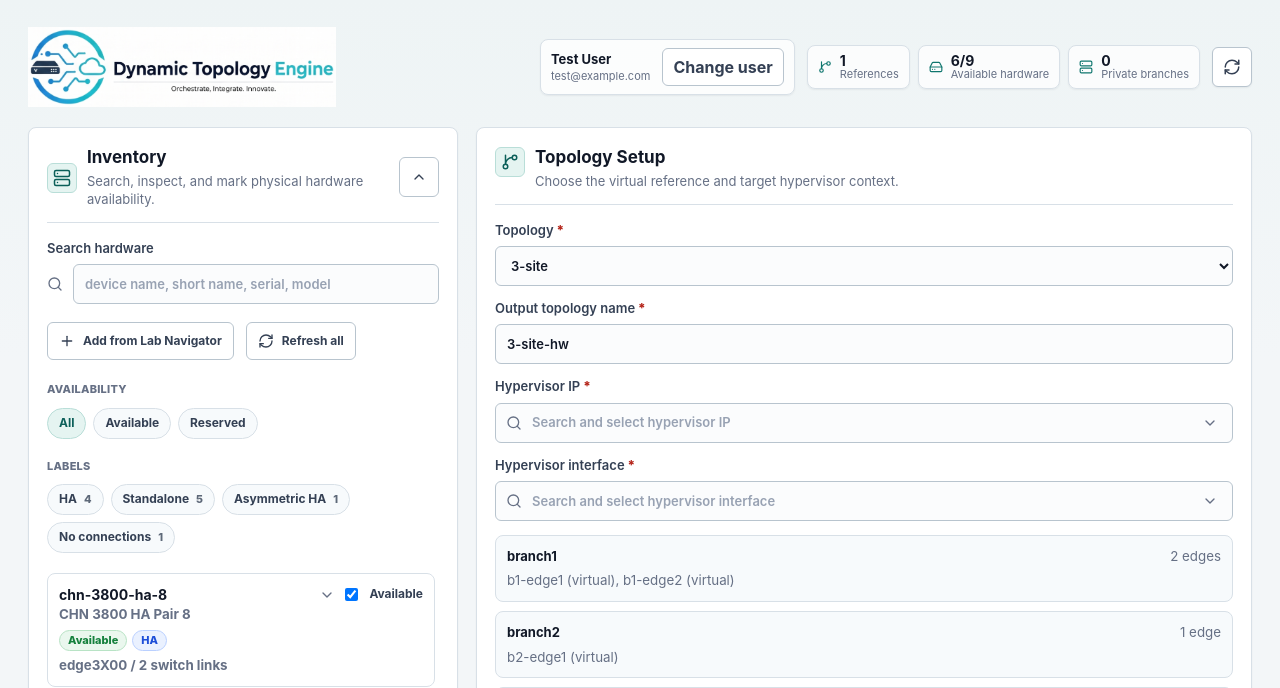
Scenario: App › searches inventory by short name and expands details
The image size is (1280, 688).
Type "chn-3800-ha-8" into the field labelled "Search hardware".
click(256, 284); type("chn-3800-ha-8")  # box [73,264,439,304]
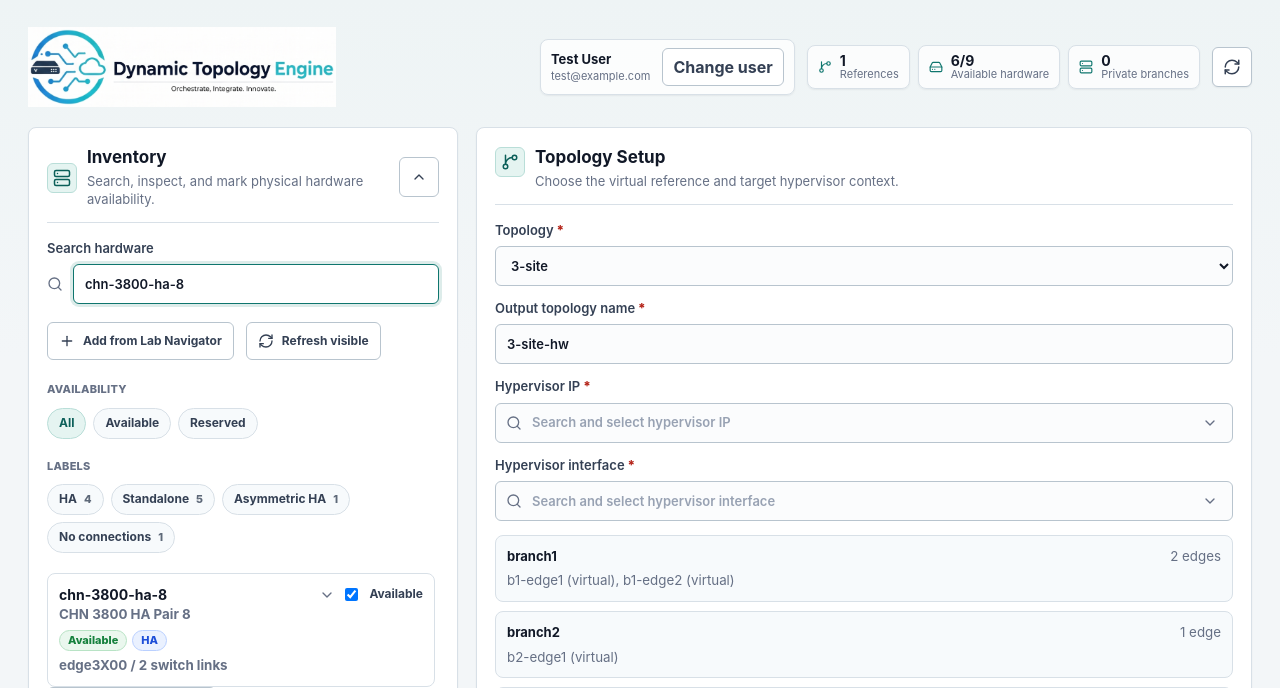
Click the button "chn-3800-ha-8".
click(113, 595)  # box [59,585,335,675]
(page scrolled)
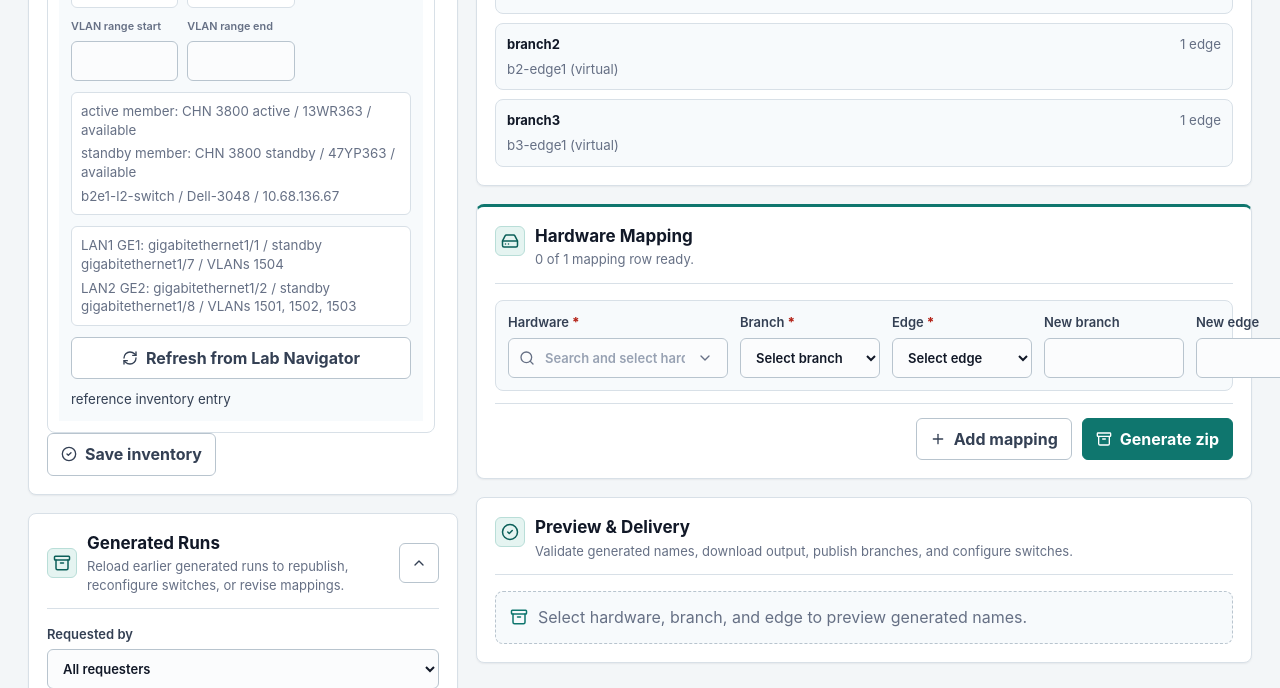
Expected: the text "LAN2 GE2" is shown, [81,279,401,316]
Expected: the text "reference inventory entry" is shown, [71,391,231,407]
